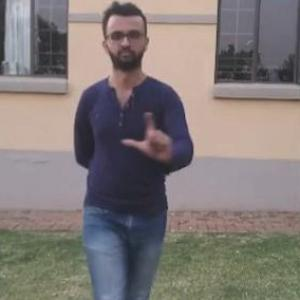land_hand: (120, 109, 183, 164)
